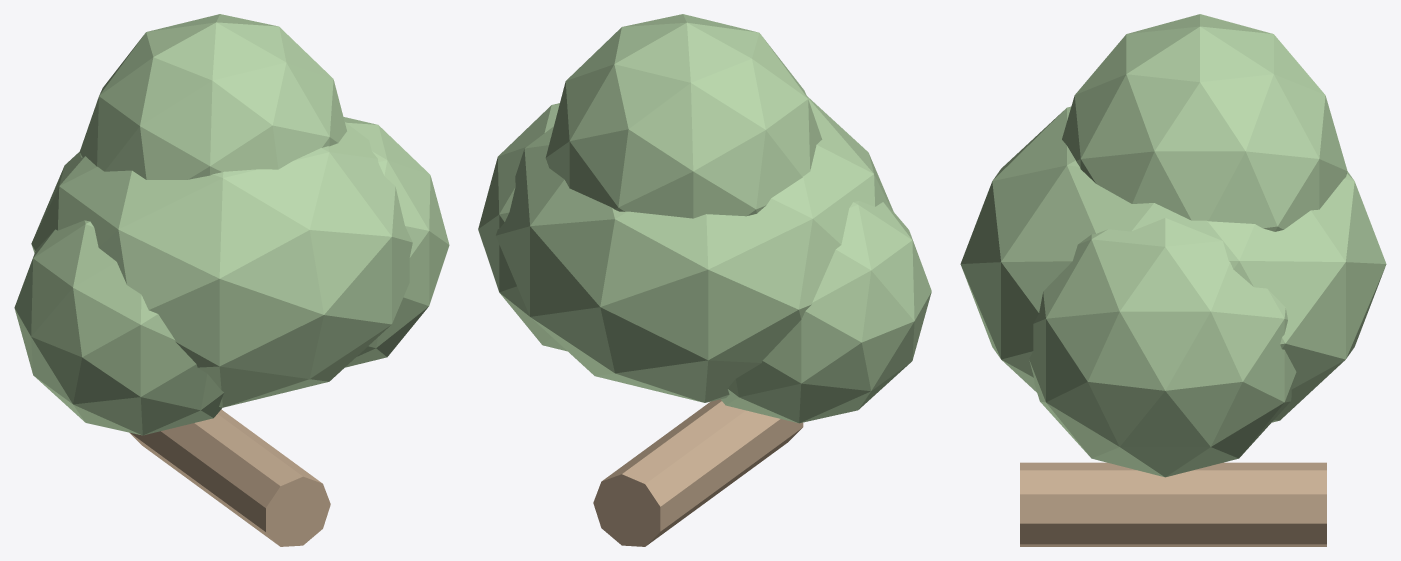
File: tree-a.glb
3 renders of one model, left to right at view 1: azimuth 30°, elevation 25°; view 2: azimuth 150°, elevation 25°; view 3: azimuth 270°, elevation 25°, orthographic. The views are drawn at different scales.
Visible parts, largest first — view 1: world; view 2: world; view 3: world.
Boxes of the visible parts, x1,y1,x2,y2 form: world: (14, 14, 449, 546); world: (478, 14, 931, 546); world: (960, 14, 1386, 546).
Size of the model in its own units: 2.52 by 2.79 by 2.08.
